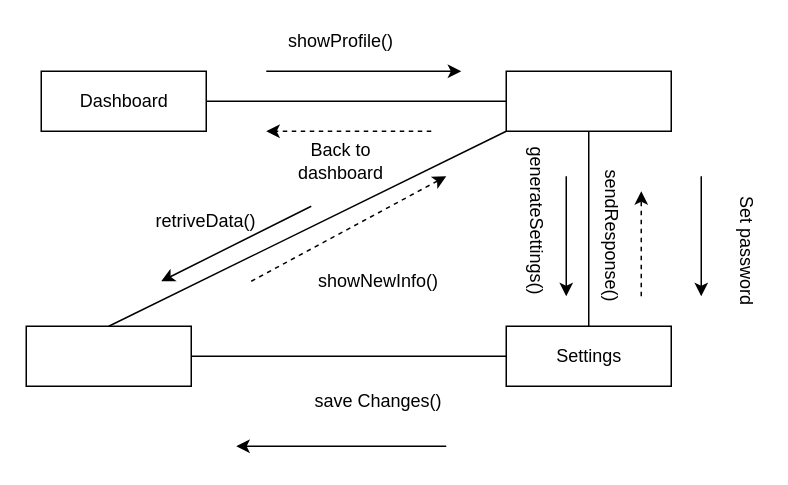
The diagram is 788 pixels wide and 485 high, and some of its shapes have lost their labels. Each missing label, with the centre of its shape:
"Database" goes at (108,355).
"Profile" goes at (588,100).
